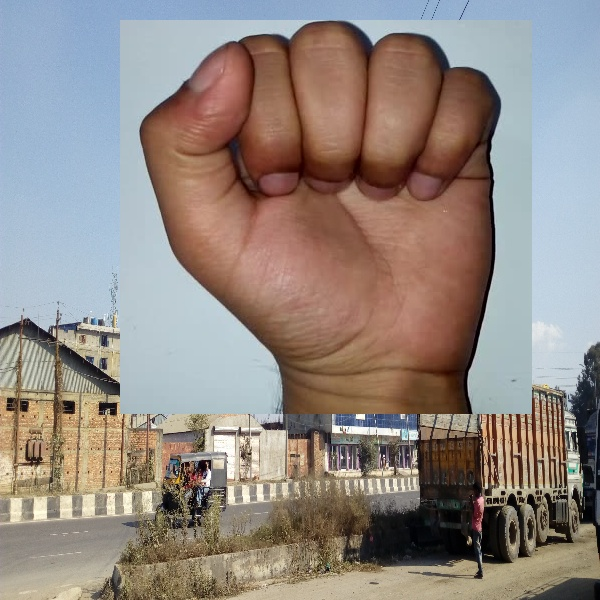A: (120, 20, 532, 414)
